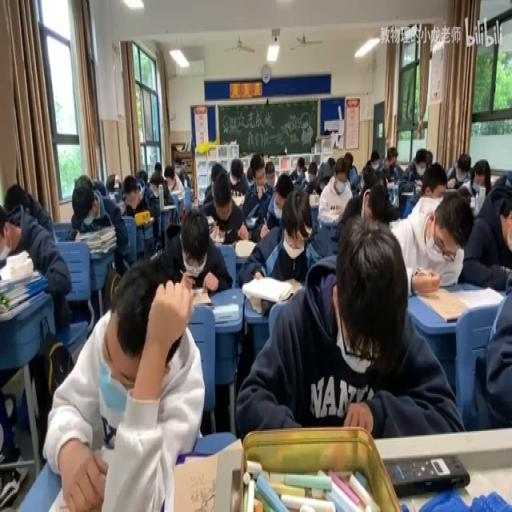calculator: (172, 454, 223, 510), (242, 276, 290, 303), (212, 302, 238, 322), (188, 287, 214, 307), (234, 238, 256, 258), (284, 276, 302, 294), (134, 214, 154, 228), (244, 214, 258, 228), (230, 194, 244, 208), (206, 219, 216, 235), (117, 199, 126, 215), (309, 194, 319, 208), (442, 185, 461, 192), (162, 202, 176, 210), (490, 175, 500, 186), (312, 154, 321, 165), (386, 179, 395, 188), (401, 191, 416, 196)
paper: (238, 219, 458, 438), (0, 184, 70, 459), (392, 186, 471, 290), (462, 266, 510, 429), (69, 175, 129, 282), (160, 202, 230, 292), (461, 174, 512, 292), (304, 185, 350, 270), (338, 175, 396, 235), (144, 169, 176, 246), (233, 155, 263, 225), (396, 149, 429, 209), (262, 170, 292, 232), (201, 161, 229, 206), (446, 151, 474, 189), (3, 183, 29, 219), (380, 145, 402, 182), (469, 158, 491, 195), (169, 155, 190, 189), (362, 150, 381, 180), (290, 155, 306, 183), (104, 172, 120, 194), (91, 178, 107, 199), (347, 168, 360, 192), (304, 172, 318, 194), (134, 168, 148, 189), (342, 150, 354, 174), (230, 162, 243, 184), (414, 160, 426, 178), (150, 181, 164, 196), (458, 184, 470, 200), (424, 151, 433, 172), (164, 170, 174, 184), (326, 156, 334, 170), (246, 165, 252, 182), (152, 162, 162, 171), (382, 160, 389, 170)
person: (386, 452, 470, 496), (228, 468, 241, 510), (246, 293, 265, 313)
